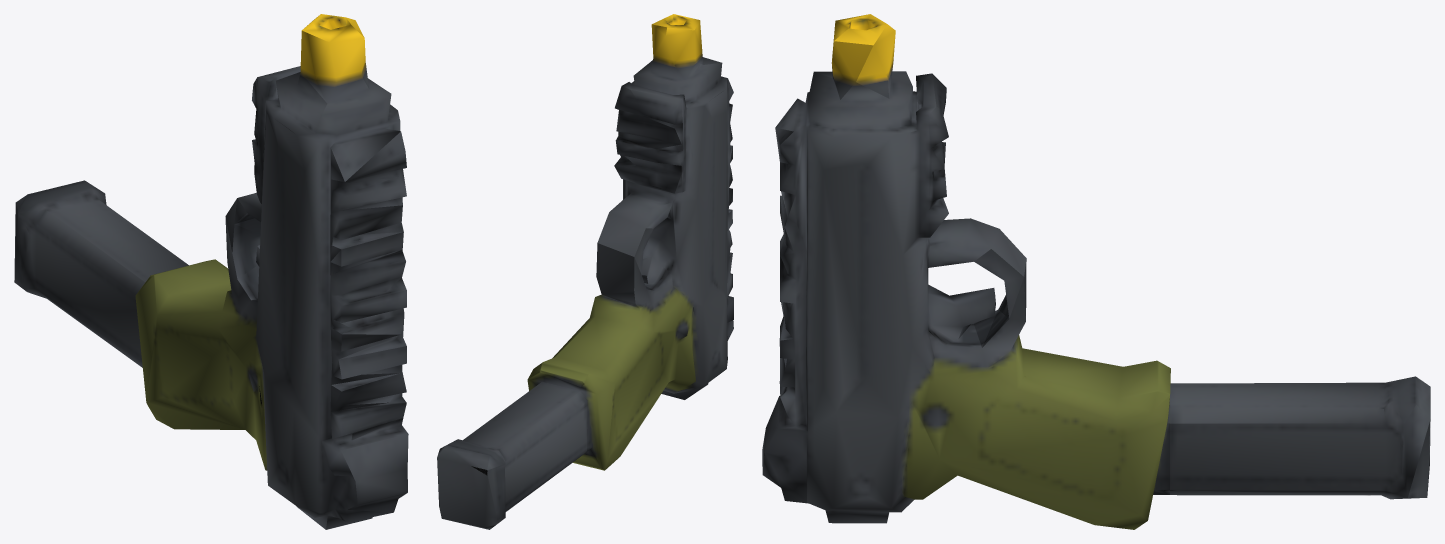
File: rattler.glb
3 renders of one model, left to right at view 1: azimuth 30°, elevation 25°; view 2: azimuth 150°, elevation 25°; view 3: azimuth 270°, elevation 25°, orthographic. The views are drawn at different scales.
Parts seen in each view (by area): view 1: rattler, part_mag; view 2: rattler, part_mag; view 3: rattler, part_mag.
Boxes of the visible parts, left/top/right/bottom form: rattler: left=135, top=14, right=408, bottom=529; part_mag: left=14, top=180, right=188, bottom=367; rattler: left=473, top=14, right=733, bottom=474; part_mag: left=437, top=370, right=587, bottom=529; rattler: left=762, top=14, right=1169, bottom=529; part_mag: left=1170, top=368, right=1430, bottom=499.
Bounding box in the file's own units: 0.069 × 0.3106 × 0.3845.
1 material, 1 textured.
